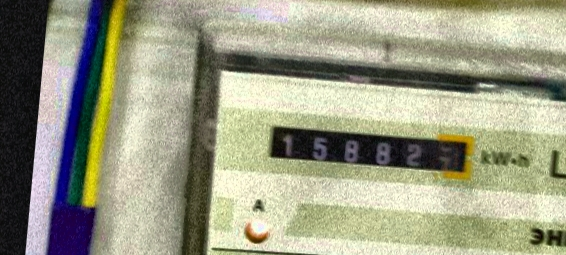1: (281, 131, 297, 157)
2: (406, 139, 425, 167)
5: (311, 134, 330, 160)
7: (437, 152, 452, 169)
8: (374, 138, 393, 164), (342, 137, 361, 162)
screen: (255, 109, 486, 189)
